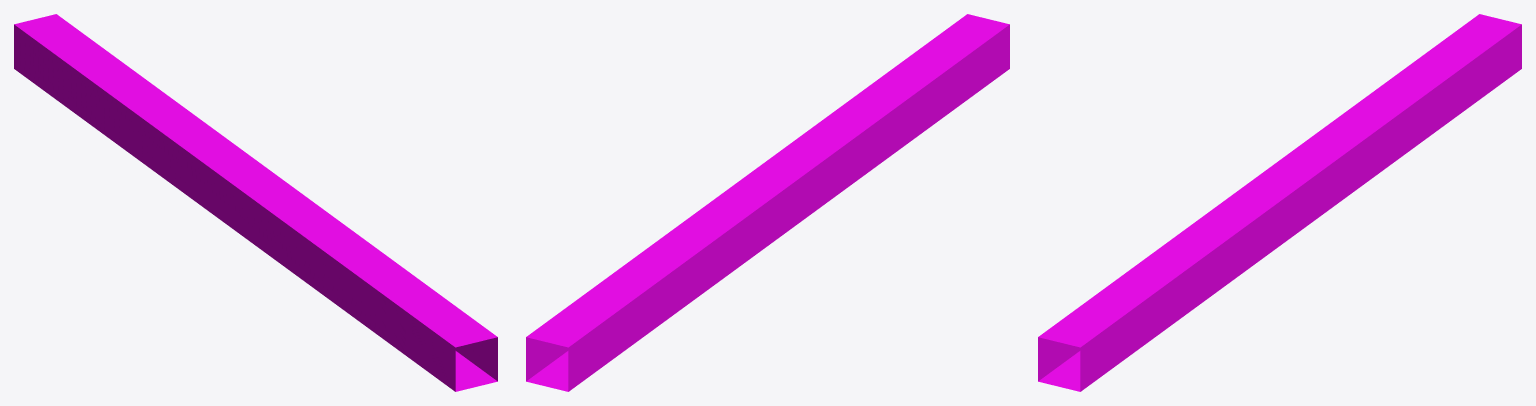
The model's file is tdr_d_collision_a.obj.
The picture shows the model from 3 angles, left to right: view 1: azimuth 30°, elevation 25°; view 2: azimuth 150°, elevation 25°; view 3: azimuth 330°, elevation 25°; orthographic projection.
Parts seen in each view (by area): view 1: Cube.014_Cube.009; view 2: Cube.014_Cube.009; view 3: Cube.014_Cube.009.
Boxes of the visible parts, box(x1,y1,x2,y2) form: Cube.014_Cube.009: box(14, 14, 497, 391); Cube.014_Cube.009: box(526, 14, 1009, 391); Cube.014_Cube.009: box(1038, 14, 1521, 391).
Size of the model in its own units: 64 by 64 by 1152.
Materials: 1 (1 with a texture image).
